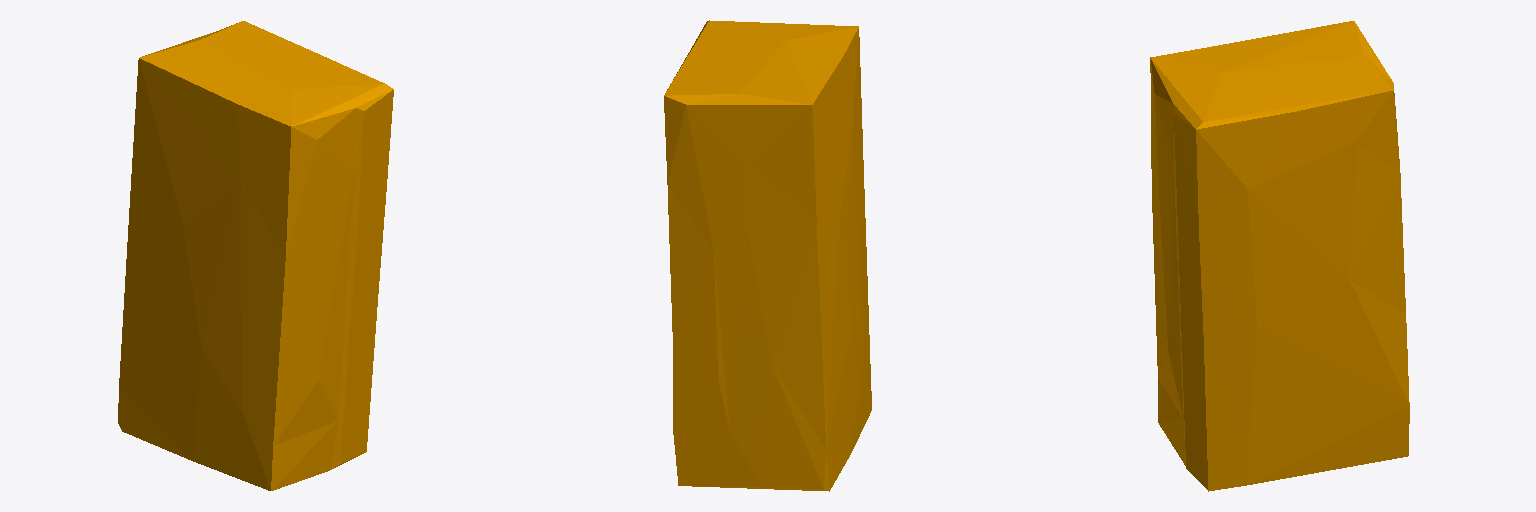
The robot description file, URDF, robot "FruitTea_800_tex":
<?xml version="1.0"?>
<robot name="FruitTea_800_tex">
  <link name="base_link">
    <contact>
      <lateral_friction value="1.0"/>
      <rolling_friction value="0.0"/>
      <contact_cfm value="0.0"/>
      <contact_erp value="1.0"/>
    </contact>
    <inertial>
      <mass value="0.0527330940679"/>
      <inertia ixx="1" ixy="0" ixz="0" iyy="1" iyz="0" izz="1"/>
    </inertial>
    <visual>
      <geometry>
        <mesh filename="FruitTea_800_tex_visual.obj"/>
      </geometry>
    </visual>
    <collision>
      <geometry>
        <mesh filename="FruitTea_800_tex_collision.obj"/>
      </geometry>
    </collision>
  </link>
</robot>

--- Facts derived from the render (not from the file) ---
3 views of the same robot in one strip: view 1: azimuth 30°, elevation 25°; view 2: azimuth 150°, elevation 25°; view 3: azimuth 270°, elevation 25° (orthographic).
Model FruitTea_800_tex with 1 links and 0 joints (none), rooted at base_link, posed every joint at zero.
Visible links, largest first — view 1: base_link; view 2: base_link; view 3: base_link.
Boxes of the visible links, box(x1,y1,x2,y2) form: base_link: box(118, 21, 393, 490); base_link: box(664, 20, 871, 491); base_link: box(1150, 21, 1409, 491).
Bounding box of the posed robot: 0.0602 × 0.0673 × 0.1122 m (x, y, z).
1 mesh visuals loaded from 1 distinct referenced files (1 OBJ).